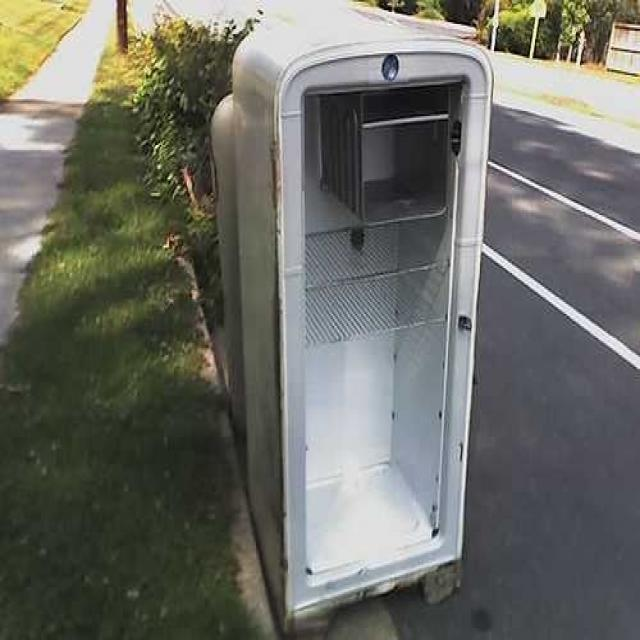refrigerator: (237, 26, 459, 599)
